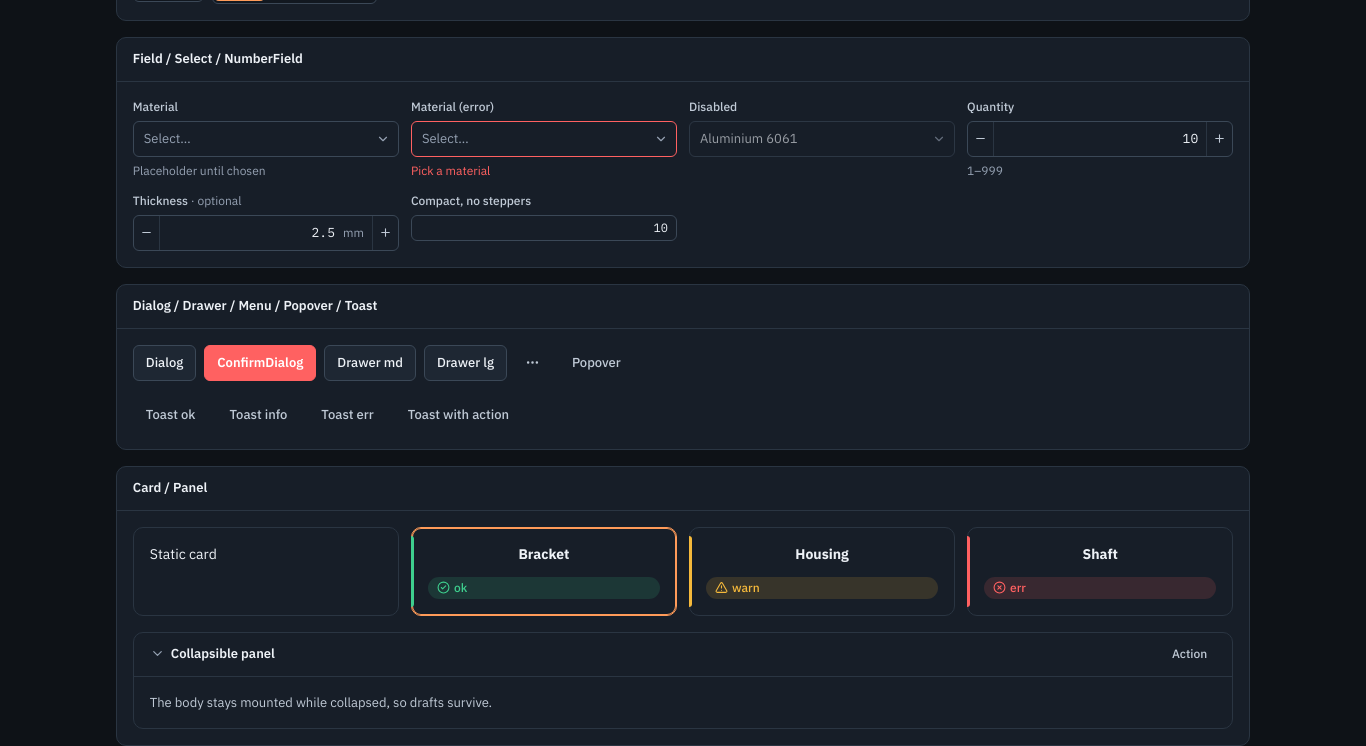
Test: UiPlayground (/dev/ui) › opens the dialog demo and closes it with Escape
(page scrolled)
Click the button "Dialog": x=165, y=363 133,345 -> 196,381
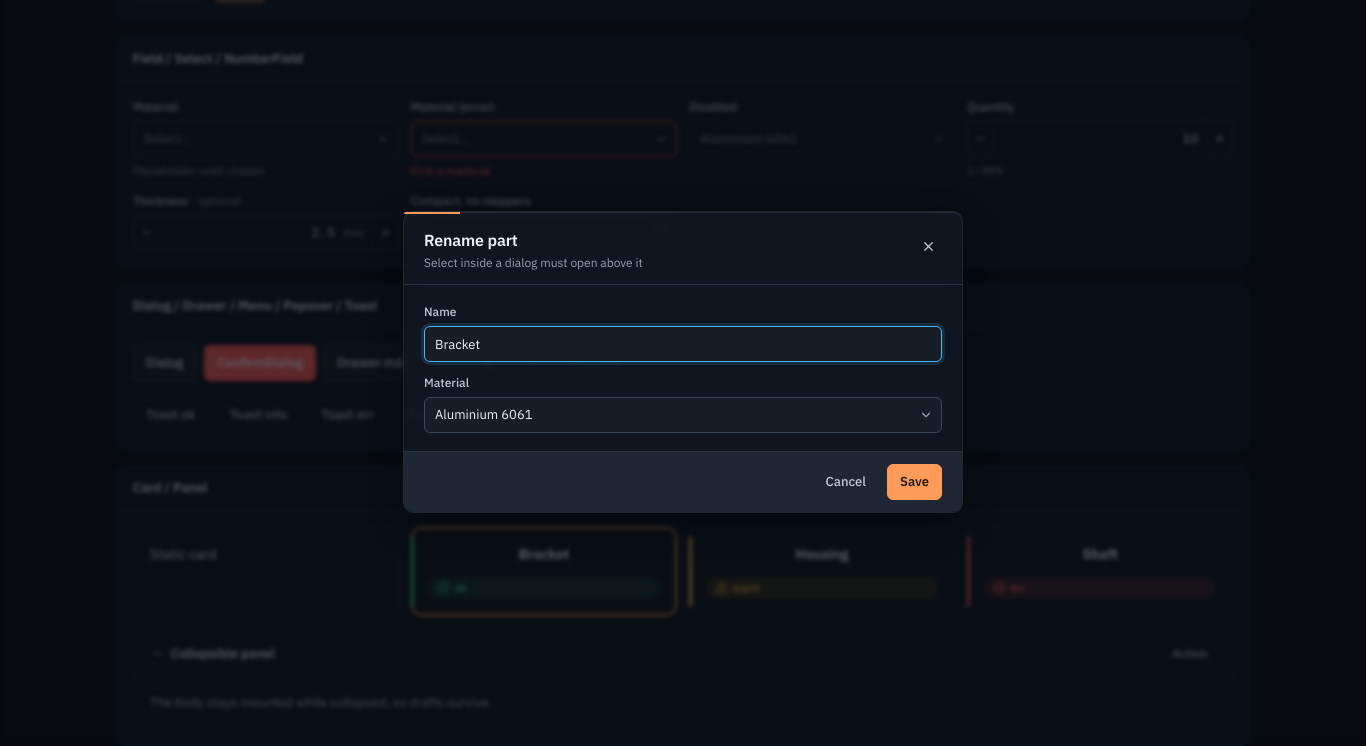
Check: the dialog "Rename part" is shown, box 403,211 -> 963,513
Press Escape
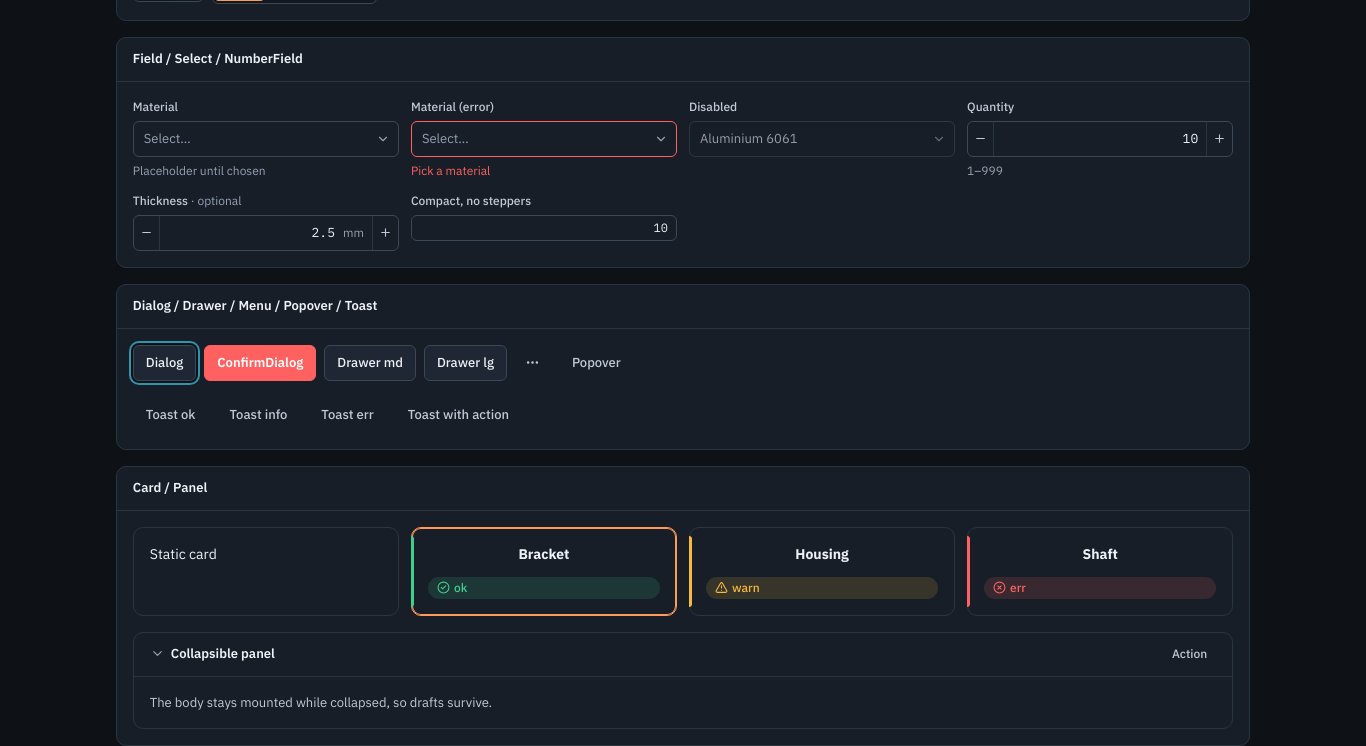
Check: the dialog is gone
